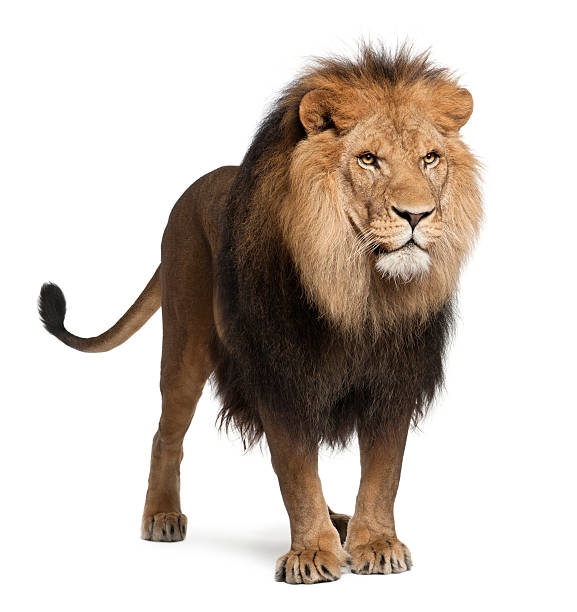lion: (181, 38, 516, 487)
